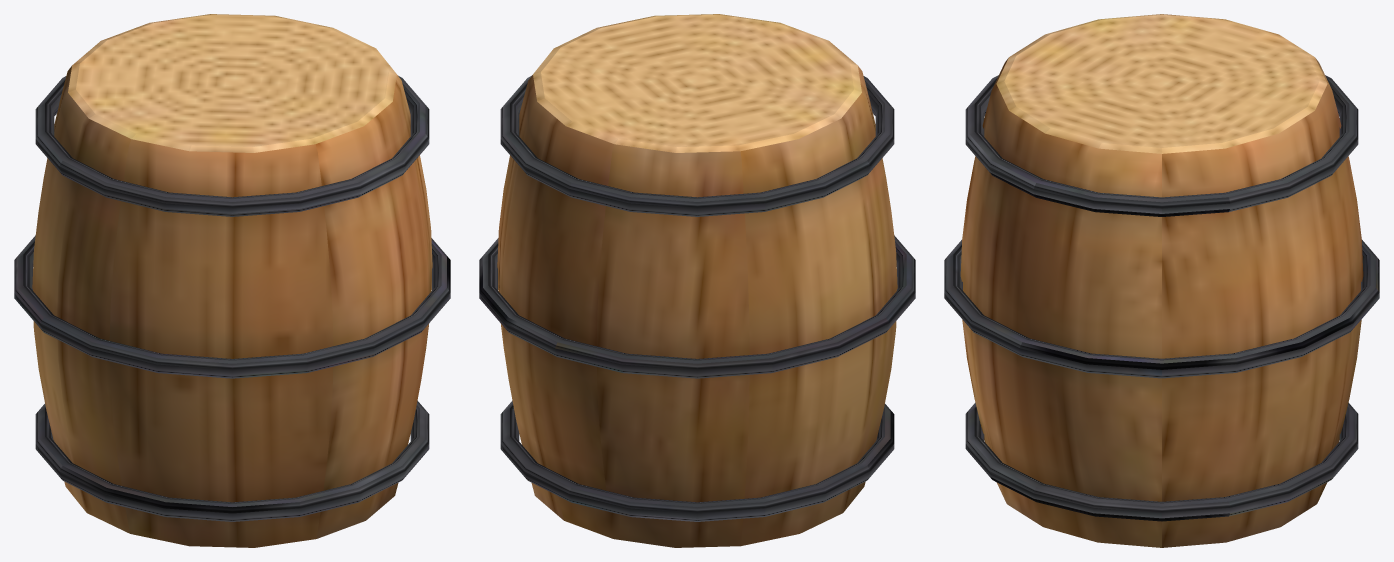
Rendered from barrel.glb.
3 renders of one model, left to right at view 1: azimuth 30°, elevation 25°; view 2: azimuth 150°, elevation 25°; view 3: azimuth 270°, elevation 25°, orthographic.
Parts seen in each view (by area): view 1: Mesh_0; view 2: Mesh_0; view 3: Mesh_0.
Part boxes in pixels (x1=…): Mesh_0: x1=14, y1=14, x2=450, y2=547; Mesh_0: x1=479, y1=14, x2=915, y2=547; Mesh_0: x1=944, y1=14, x2=1379, y2=547.
Size of the model in its own units: 1.32 by 1.3 by 1.3.
Materials: 1 (1 with a texture image).
